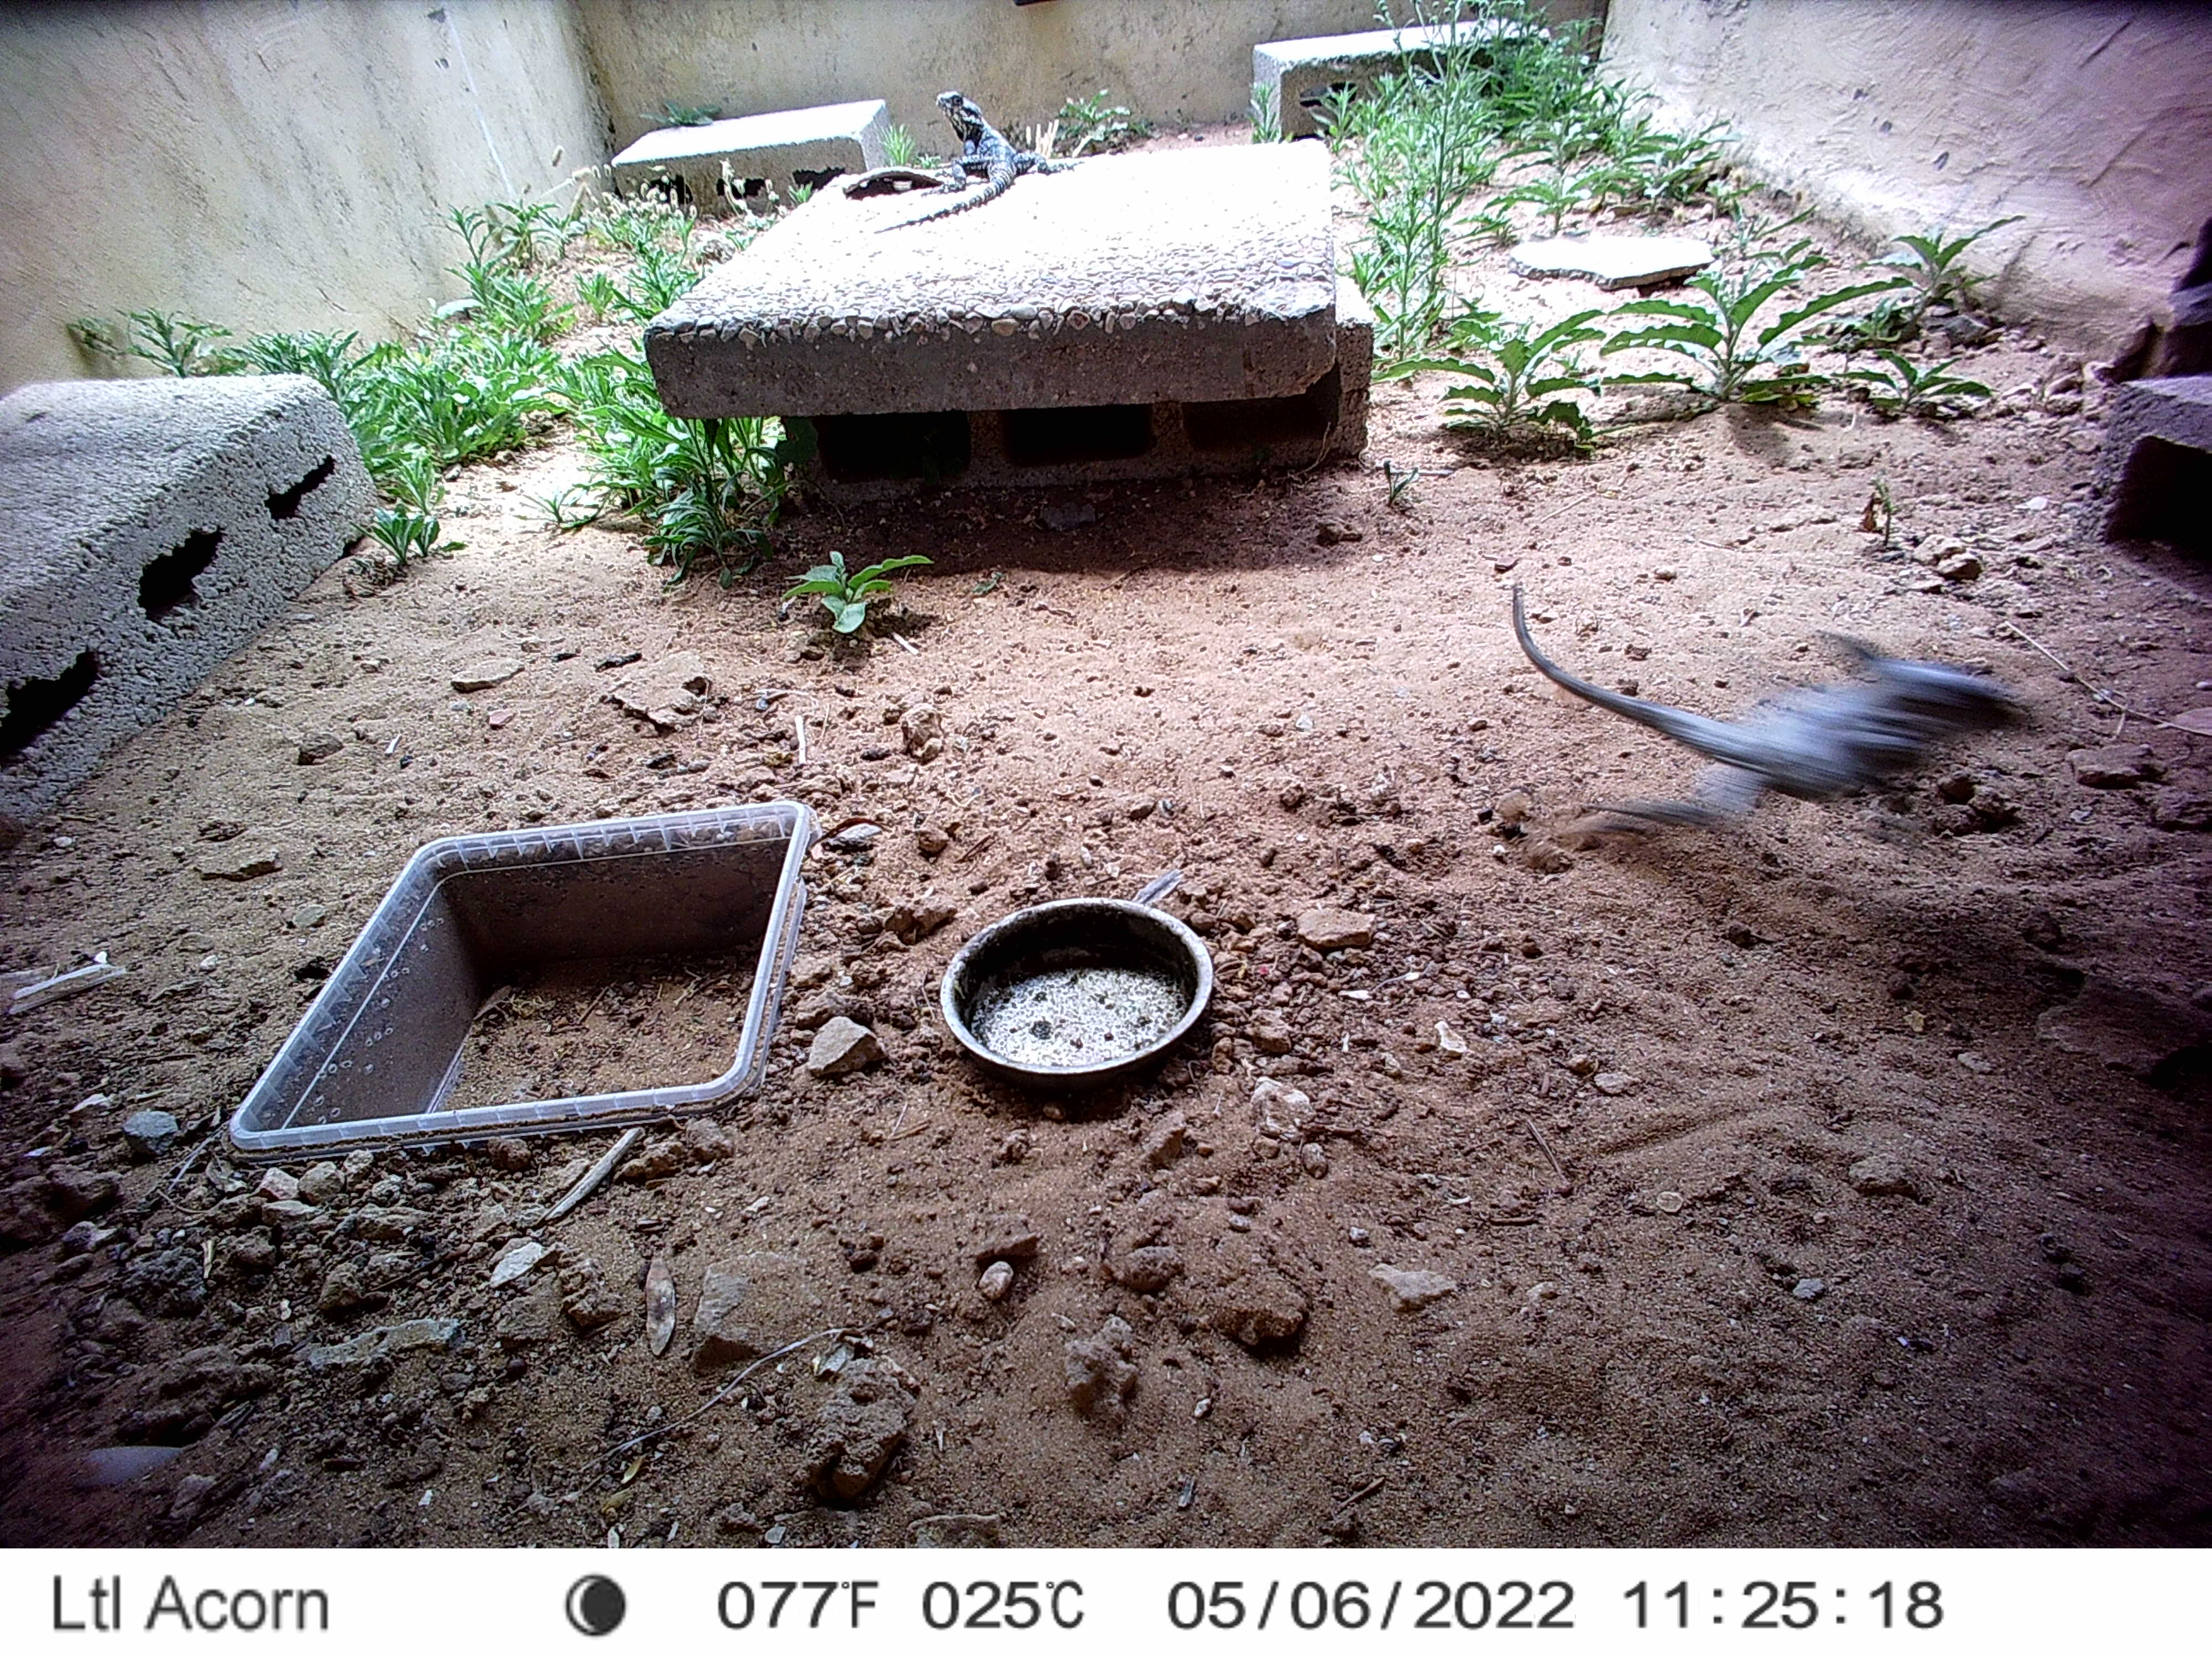lizard: (1500, 582, 2045, 889), (914, 89, 1068, 220)
